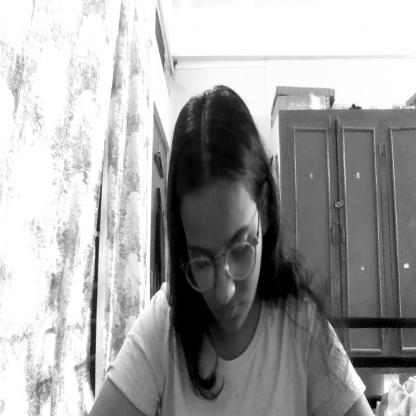Distracted: (170, 106, 274, 339)
